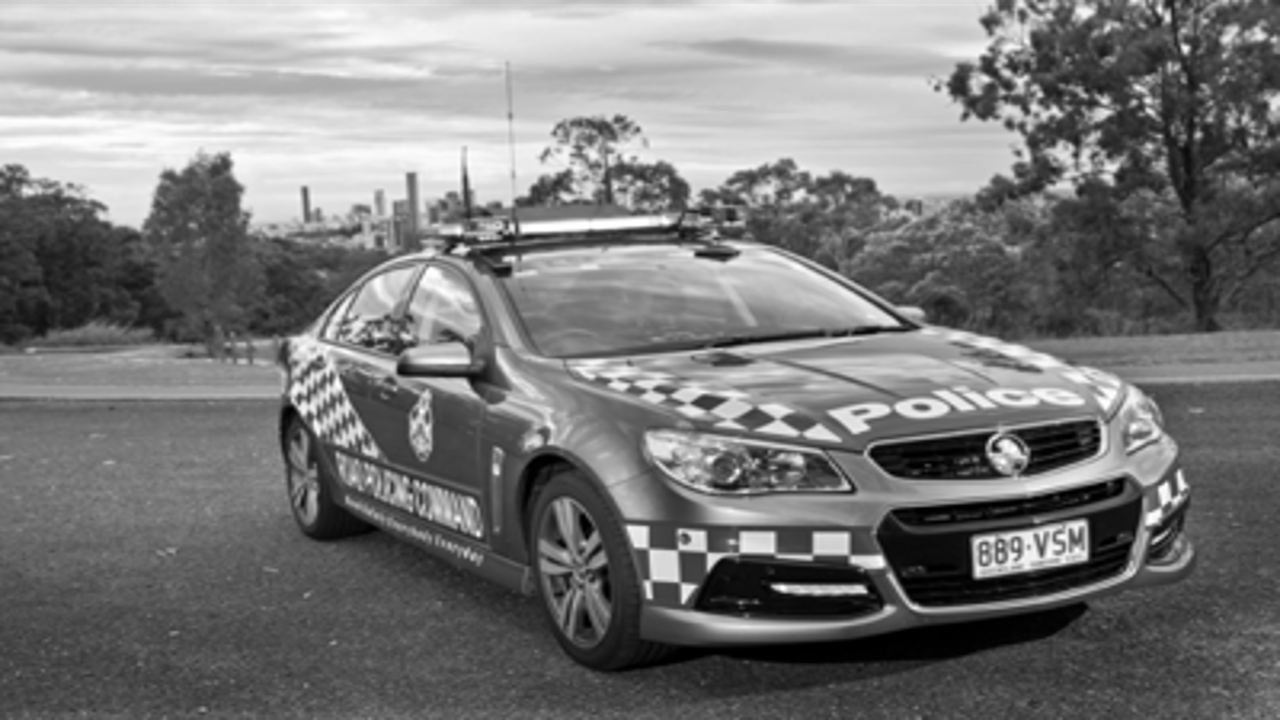license: (961, 514, 1093, 582)
